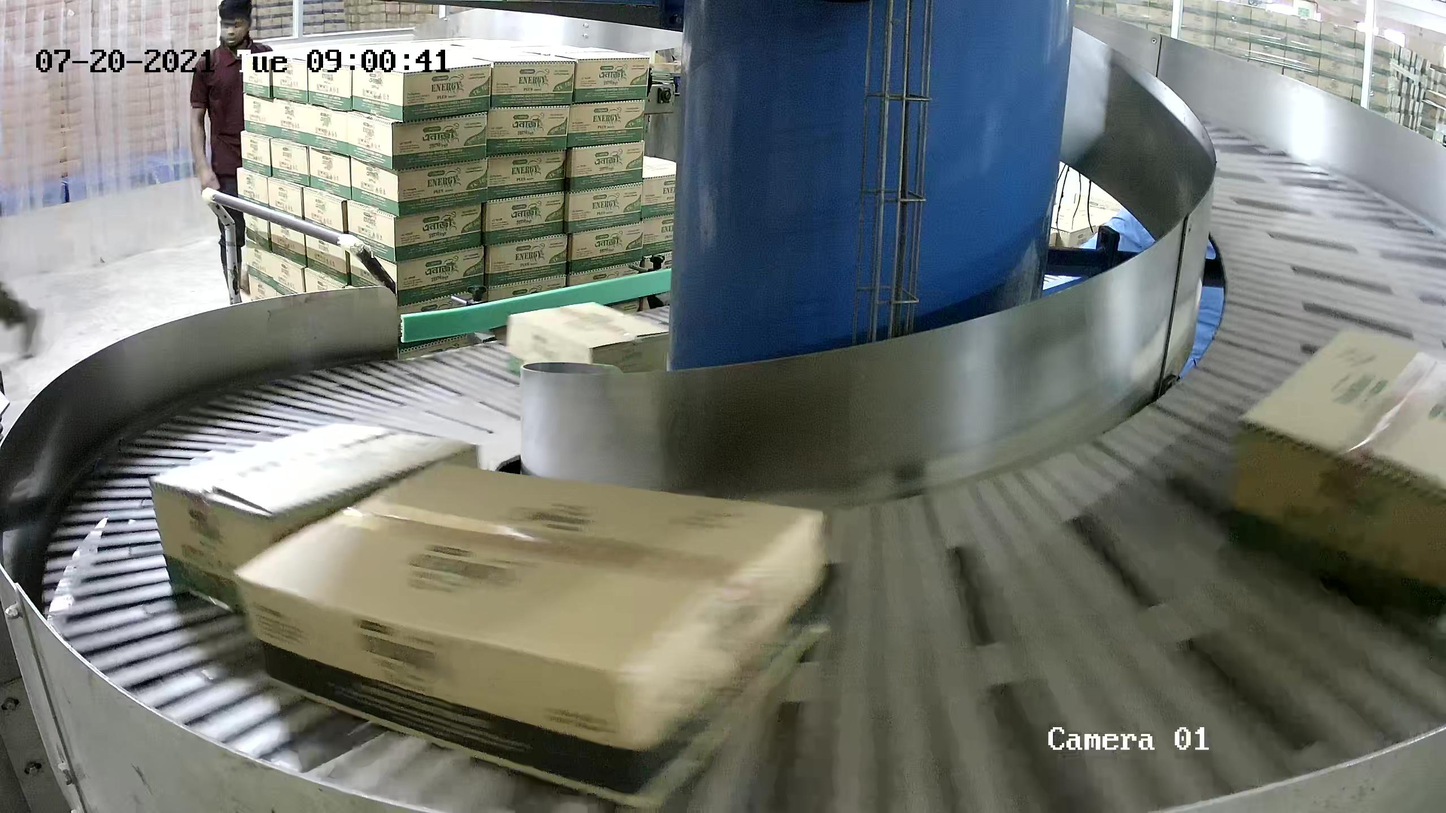Box: (231, 455, 835, 813), (1223, 325, 1446, 618), (148, 422, 481, 618), (504, 300, 670, 377)
